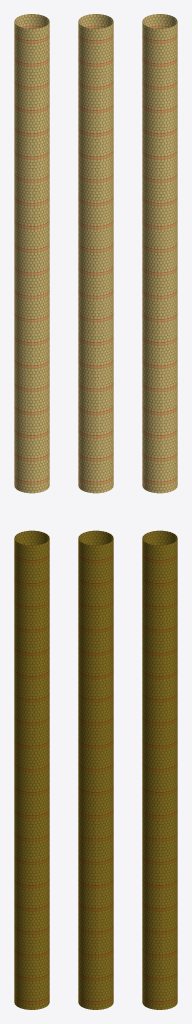
The model's file is Extension.dae.
3 renders of one model, left to right at view 1: azimuth 30°, elevation 25°; view 2: azimuth 150°, elevation 25°; view 3: azimuth 330°, elevation 25°, orthographic.
Visible parts, largest first — view 1: Wall, Wall.1; view 2: Wall, Wall.1; view 3: Wall, Wall.1.
Part boxes in pixels (<box>): Wall: <box>14,14,49,493</box>; Wall.1: <box>14,530,49,1009</box>; Wall: <box>78,14,113,493</box>; Wall.1: <box>78,530,113,1009</box>; Wall: <box>142,14,177,493</box>; Wall.1: <box>142,530,177,1009</box>.
Size of the model in its own units: 1095 by 33800 by 1095.
2 materials, 2 textured.
